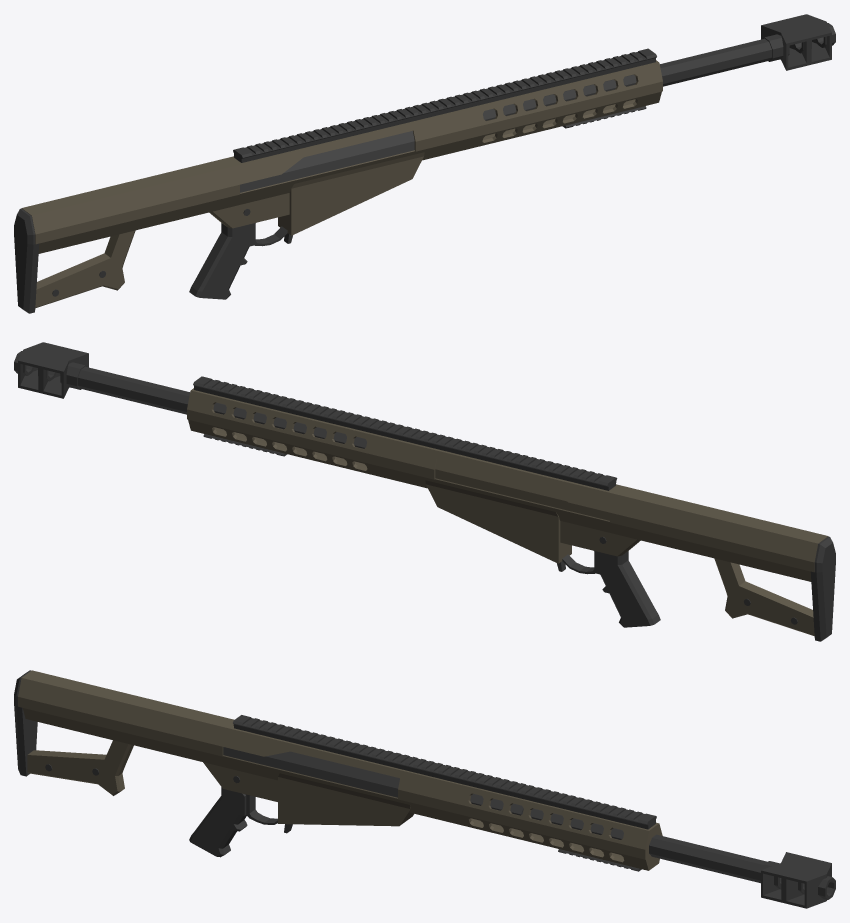
Rendered from SniperRifle4_03.fbx.
3 renders of one model, top to bottom at view 1: azimuth 30°, elevation 25°; view 2: azimuth 150°, elevation 25°; view 3: azimuth 330°, elevation 25°, orthographic.
Parts seen in each view (by area): view 1: SniperRifle4_03; view 2: SniperRifle4_03; view 3: SniperRifle4_03.
Boxes of the visible parts, x1,y1,x2,y2 form: SniperRifle4_03: [14, 14, 835, 313]; SniperRifle4_03: [14, 342, 835, 641]; SniperRifle4_03: [14, 670, 835, 908].
Size of the model in its own units: 1.39 by 0.2303 by 0.0749.
